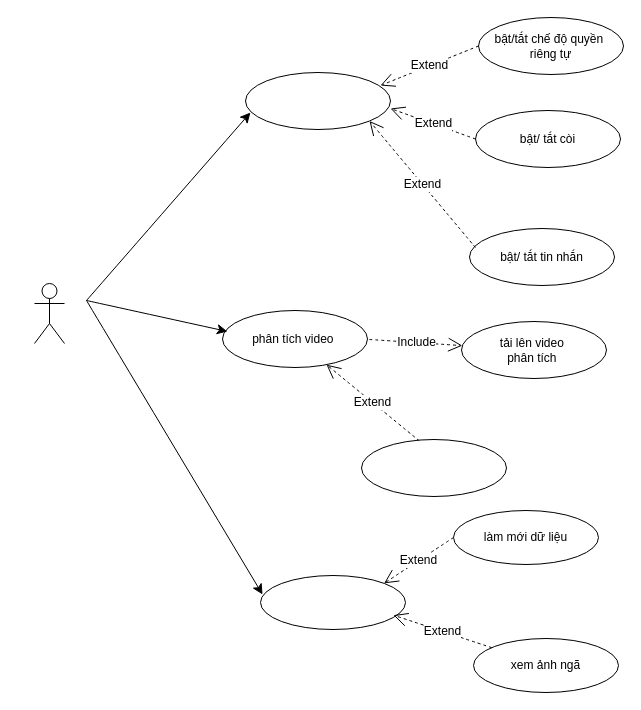
Image size: 641x710. Some labels were removed from this diagram. The shapes that lost their labels are listed below. From the top down, each one's centre as x and y in pixels, then its label:
At [317,101]: "Giám sát trưc tuyến".
At [49,313]: "Người dùng".
At [433,467]: "tải xuống video phân tích".
At [333,602]: "xem danh sách lịch sử cảnh bảo".
